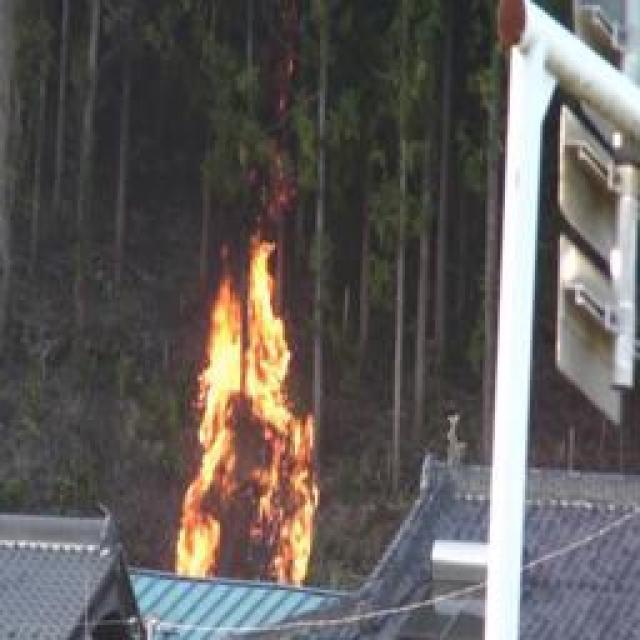Fire: (178, 227, 320, 588)
